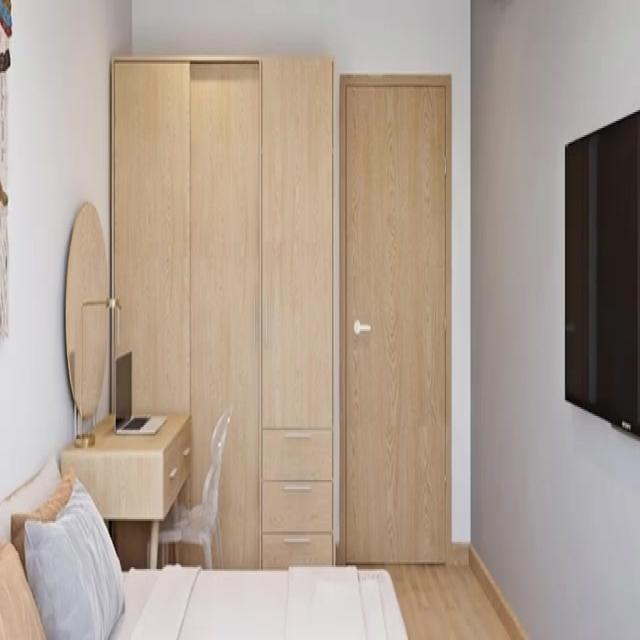door: (340, 72, 449, 566)
obstacle: (109, 53, 334, 569), (0, 455, 409, 638), (60, 409, 192, 567), (148, 402, 233, 569)
